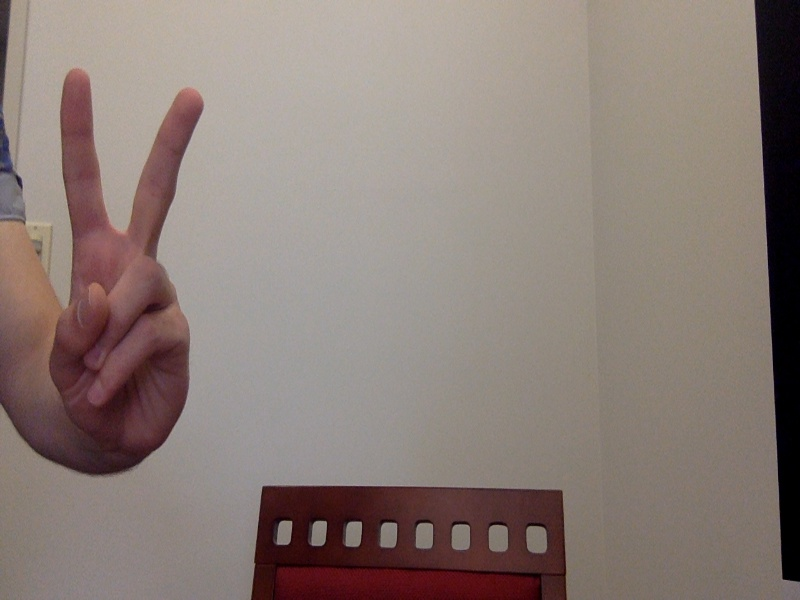2-hand: (54, 64, 204, 464)
